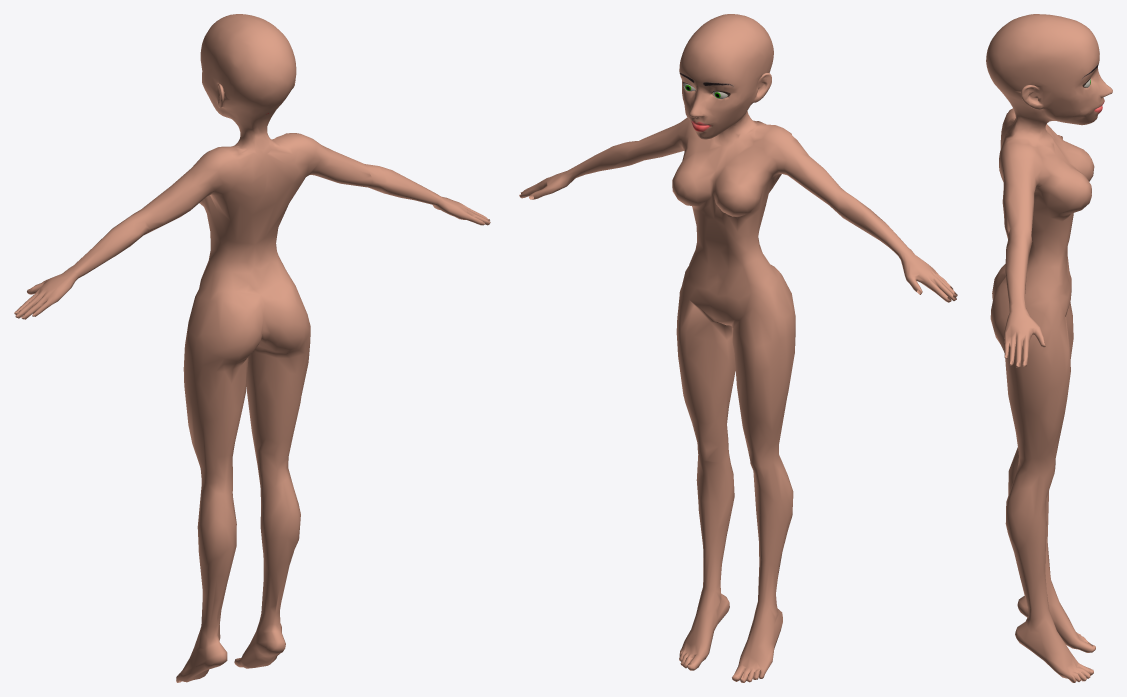
File: FEMALE CHARACTER.fbx
3 views of the same model, side by side, from view 1: azimuth 30°, elevation 25°; view 2: azimuth 150°, elevation 25°; view 3: azimuth 270°, elevation 25° (orthographic). The views are drawn at different scales.
Parts seen in each view (by area): view 1: body .004; view 2: body .004; view 3: body .004.
Part boxes in pixels (x1,y1,x2,y2): body .004: [14, 14, 490, 682]; body .004: [519, 14, 957, 682]; body .004: [986, 14, 1112, 682].
Size of the model in its own units: 102 by 140 by 24.72.
Materials: 1 (1 with a texture image).
